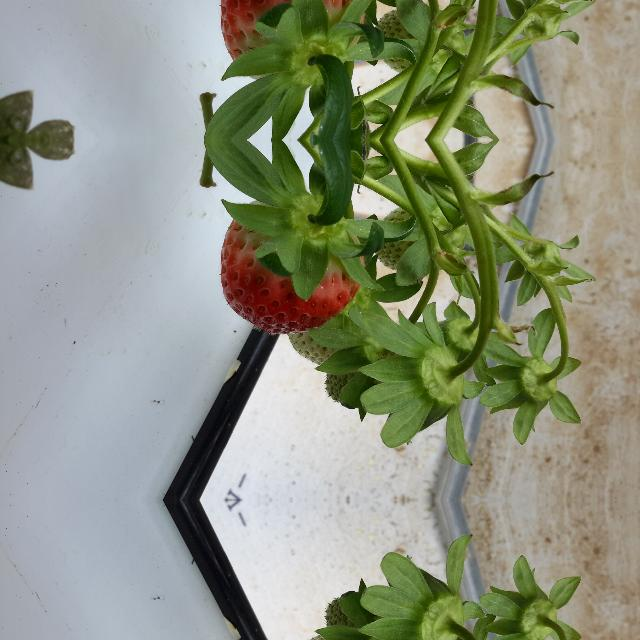Health_100: (218, 200, 360, 336), (218, 0, 360, 79)
